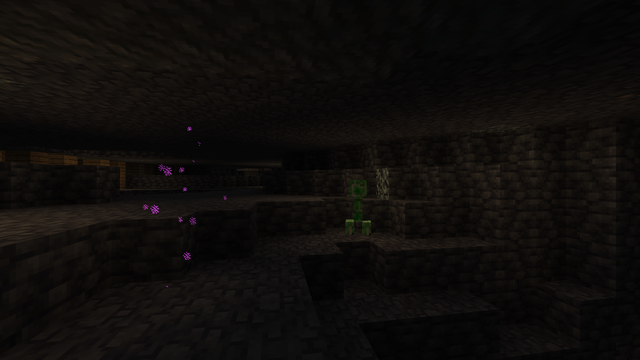creepers: (345, 177, 370, 235)
